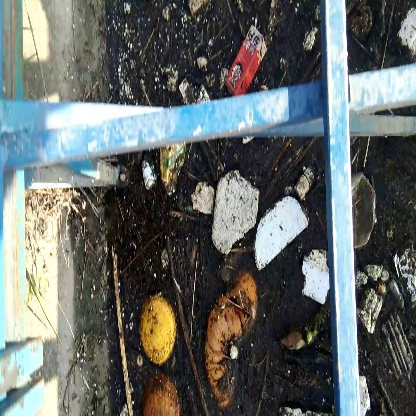milk-box: (210, 22, 274, 94)
plastic-garbage: (211, 172, 267, 260)
